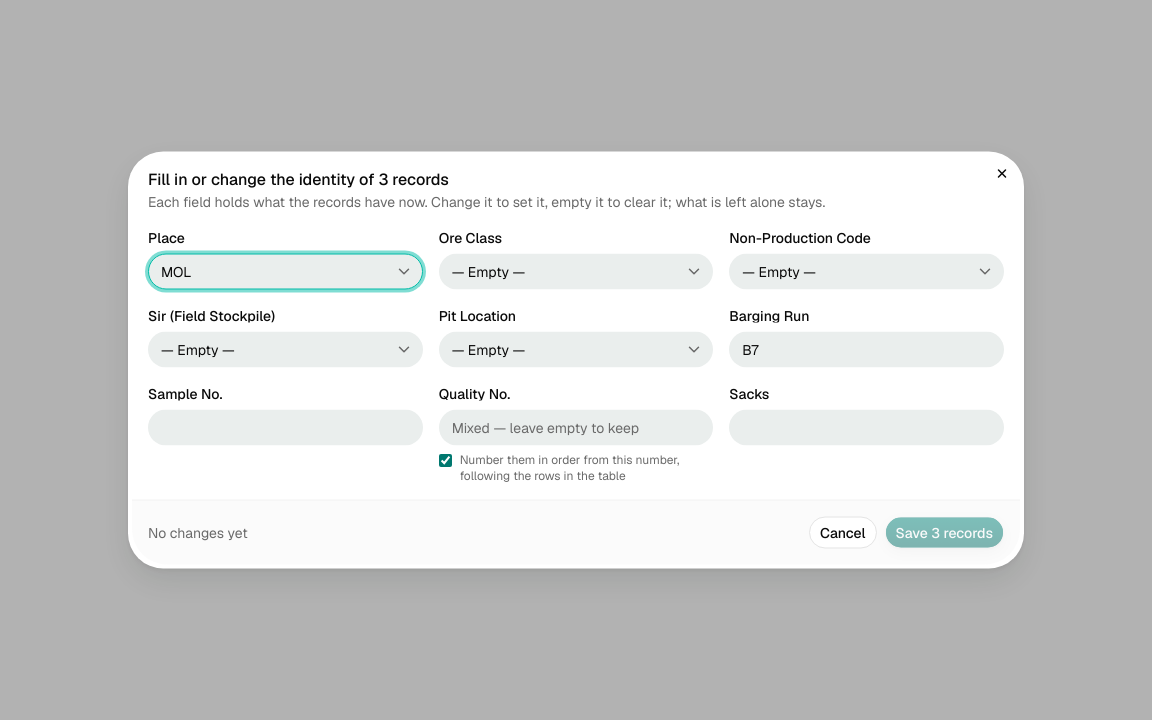
Test: BulkIdentityDialog › one form › empties a field the records agree on
Clear the field labelled "Barging Run": point(867, 350) [729,332,1004,368]
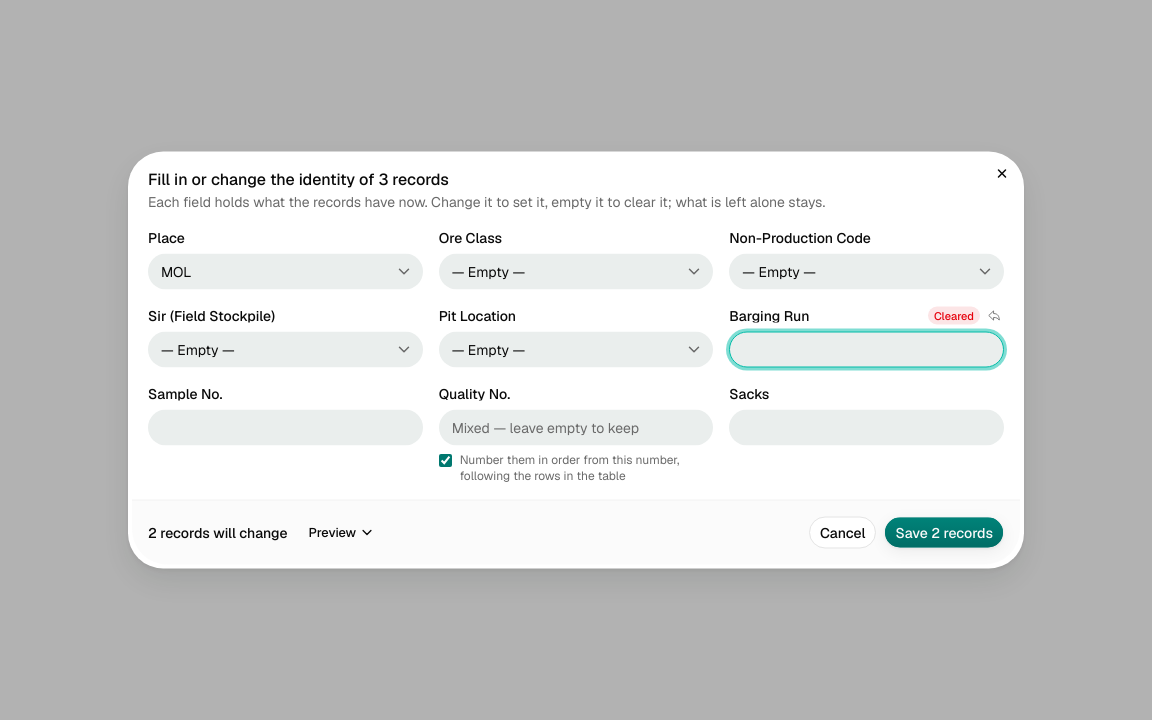
Result: the text "Cleared" is shown at [928,306,980,324]
